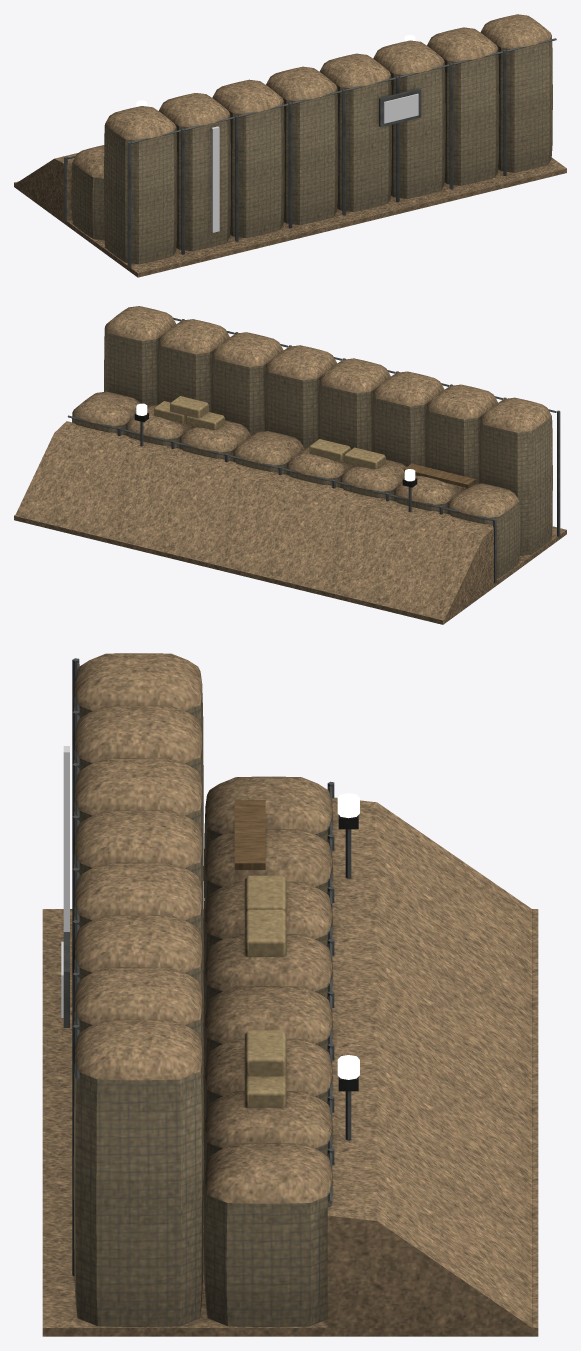
The model's file is hesco.glb.
The picture shows the model from 3 angles, top to bottom: view 1: azimuth 30°, elevation 25°; view 2: azimuth 150°, elevation 25°; view 3: azimuth 270°, elevation 25°; orthographic projection. The views are drawn at different scales.
Parts seen in each view (by area): view 1: Building; view 2: Building; view 3: Building.
Part boxes in pixels (box(x1,y1,x2,y2)): Building: box(14, 14, 566, 277); Building: box(14, 306, 566, 624); Building: box(42, 653, 538, 1336).
Size of the model in its own units: 8.03 by 2.48 by 4.
Materials: 4 (1 with a texture image).
